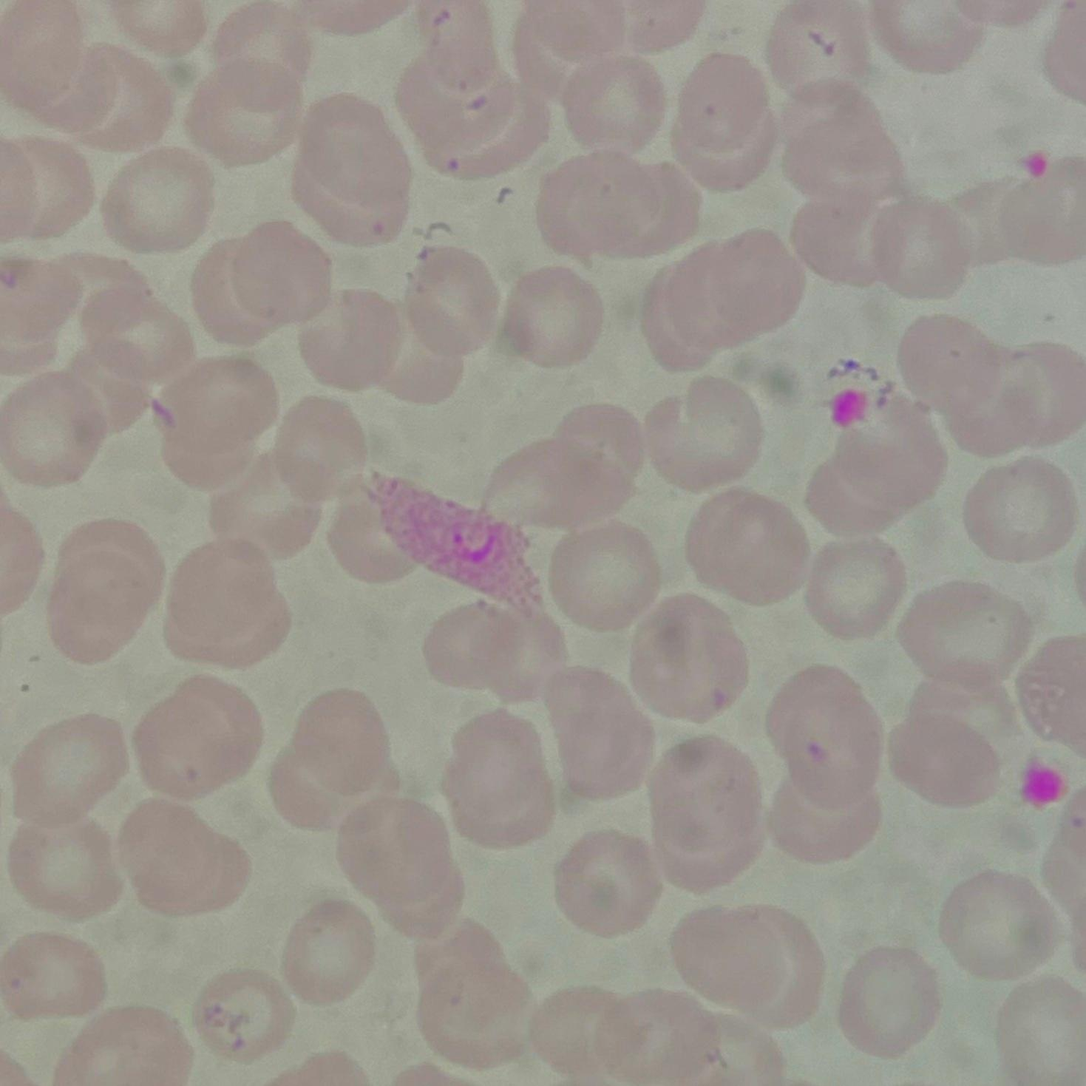Infected: (377, 467, 549, 612)
Uninfected: (643, 230, 803, 374), (395, 35, 543, 184), (801, 396, 944, 537), (671, 899, 824, 1029), (533, 147, 696, 268), (265, 685, 401, 830), (43, 515, 169, 669), (288, 93, 416, 244), (643, 734, 769, 886), (331, 795, 466, 936), (411, 923, 539, 1070), (760, 665, 882, 818), (131, 673, 268, 809), (191, 220, 333, 351), (160, 535, 294, 671), (151, 356, 280, 492), (113, 796, 254, 919), (436, 709, 560, 845), (776, 79, 905, 208), (72, 266, 199, 396), (627, 595, 750, 726), (423, 598, 566, 706), (895, 580, 1034, 691), (644, 376, 769, 498), (668, 52, 778, 190), (683, 486, 810, 605), (10, 709, 132, 832), (185, 55, 310, 173), (543, 666, 654, 798), (1, 368, 115, 491), (482, 442, 632, 533), (586, 988, 725, 1085), (886, 698, 1005, 811), (932, 343, 1058, 449), (61, 45, 179, 156), (1, 1, 103, 129), (398, 245, 505, 364), (938, 871, 1054, 980), (296, 285, 410, 395), (859, 194, 974, 303), (544, 521, 657, 631), (961, 458, 1076, 566), (101, 147, 217, 254), (896, 314, 1008, 424), (6, 816, 121, 923), (554, 52, 669, 157), (980, 160, 1086, 273), (552, 827, 662, 935), (790, 191, 904, 293), (271, 392, 373, 505), (836, 946, 938, 1056), (55, 1005, 191, 1086), (2, 136, 97, 251), (503, 260, 603, 367), (280, 900, 381, 1003), (192, 966, 295, 1067), (765, 2, 875, 96), (804, 538, 908, 637), (376, 302, 471, 407), (1, 929, 107, 1023), (409, 1, 506, 103), (529, 986, 635, 1079), (210, 476, 323, 563), (547, 398, 632, 510), (993, 977, 1083, 1078), (1016, 634, 1086, 763), (519, 2, 625, 80), (871, 1, 981, 75), (210, 3, 313, 81), (328, 493, 416, 583), (108, 1, 208, 58)
